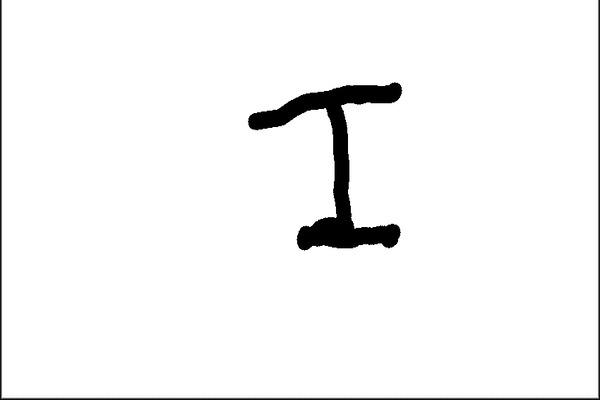i: (231, 79, 423, 265)
